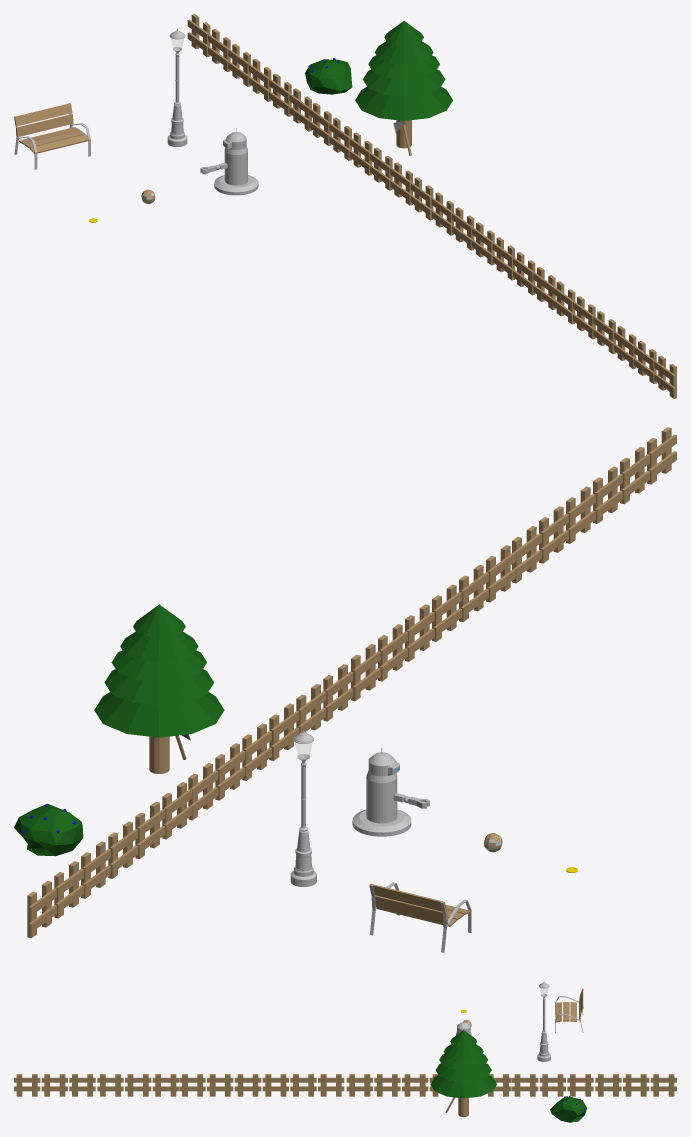
The model's file is SimRobo_environment.fbx.
3 renders of one model, top to bottom at view 1: azimuth 30°, elevation 25°; view 2: azimuth 150°, elevation 25°; view 3: azimuth 270°, elevation 25°, orthographic. The views are drawn at different scales.
Parts seen in each view (by area): view 1: tree, Cube, main_body, Icosphere, Cylinder, fence.014, fence.002, fence.005, fence.015, fence.009, fence.006, fence.007 (+17 smaller); view 2: tree, main_body, Cube, Icosphere, Cylinder, fence.009, fence.021, fence.018, fence.022, fence.014, fence.020, fence (+17 smaller); view 3: tree, Icosphere, Cube, Cylinder, fence.018, fence, fence.010, fence.023, fence.002, fence.007, fence.008, fence.009 (+14 smaller).
Part boxes in pixels (<box>): tree: <box>355,21,452,148</box>; Cube: <box>14,103,90,169</box>; main_body: <box>214,128,258,195</box>; Icosphere: <box>305,59,352,94</box>; Cylinder: <box>167,29,187,146</box>; fence.014: <box>654,355,676,398</box>; fence.002: <box>410,177,433,220</box>; fence.005: <box>349,132,372,175</box>; fence.015: <box>552,281,575,324</box>; fence.009: <box>187,14,210,57</box>; fence.006: <box>248,59,271,101</box>; fence.007: <box>269,73,291,116</box>; tree: <box>94,604,224,773</box>; main_body: <box>352,748,411,836</box>; Cube: <box>369,882,471,952</box>; Icosphere: <box>14,803,83,856</box>; Cylinder: <box>290,730,316,886</box>; fence.009: <box>27,881,56,938</box>; fence.021: <box>351,644,380,701</box>; fence.018: <box>432,584,461,641</box>; fence.022: <box>378,624,407,681</box>; fence.014: <box>647,427,676,484</box>; fence.020: <box>486,545,515,602</box>; fence: <box>269,703,299,760</box>; tree: <box>430,1030,496,1117</box>; Icosphere: <box>550,1096,586,1122</box>; Cube: <box>555,988,583,1032</box>; Cylinder: <box>537,981,550,1061</box>; fence.018: <box>234,1074,261,1096</box>; fence: <box>402,1074,428,1096</box>; fence.010: <box>623,1074,649,1096</box>; fence.023: <box>262,1074,288,1096</box>; fence.002: <box>346,1074,372,1096</box>; fence.007: <box>539,1074,565,1096</box>; fence.008: <box>512,1074,538,1096</box>; fence.009: <box>650,1074,676,1096</box>.
Bounding box in the file's own units: 1852 × 627 × 4366.
